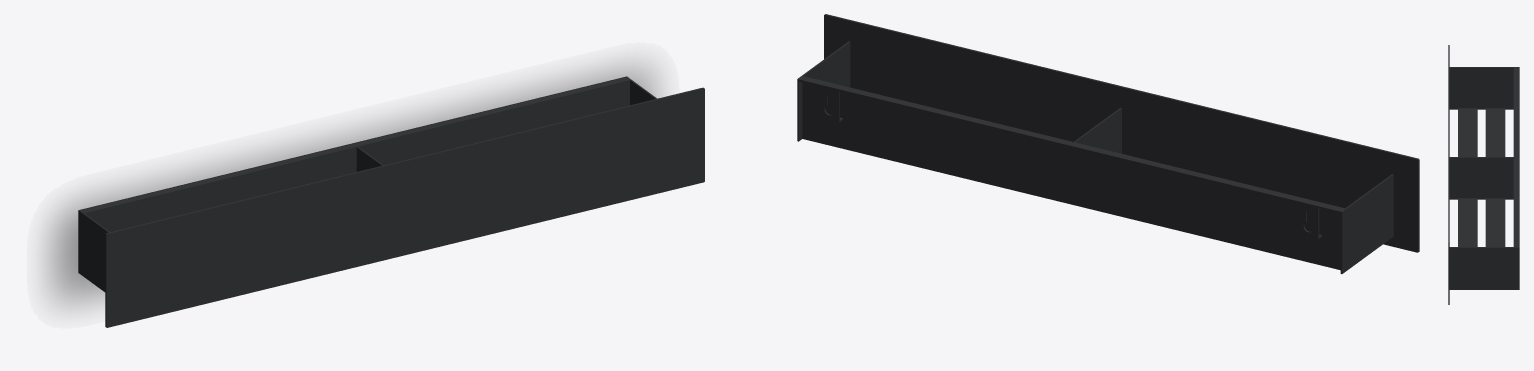
The model's file is skyline-mono.f6eae3593d.ar.glb.
3 views of the same model, side by side, from view 1: azimuth 30°, elevation 25°; view 2: azimuth 150°, elevation 25°; view 3: azimuth 270°, elevation 25° (orthographic). The views are drawn at different scales.
Visible parts, largest first — view 1: NAUO1, object 2; view 2: NAUO1; view 3: NAUO1.
Boxes of the visible parts, x1,y1,x2,y2 form: NAUO1: [78, 76, 704, 327]; object 2: [46, 64, 659, 306]; NAUO1: [797, 14, 1419, 273]; NAUO1: [1448, 45, 1519, 304].
Bounding box in the file's own units: 0.68 × 0.17 × 0.092.
2 materials, 1 textured.
